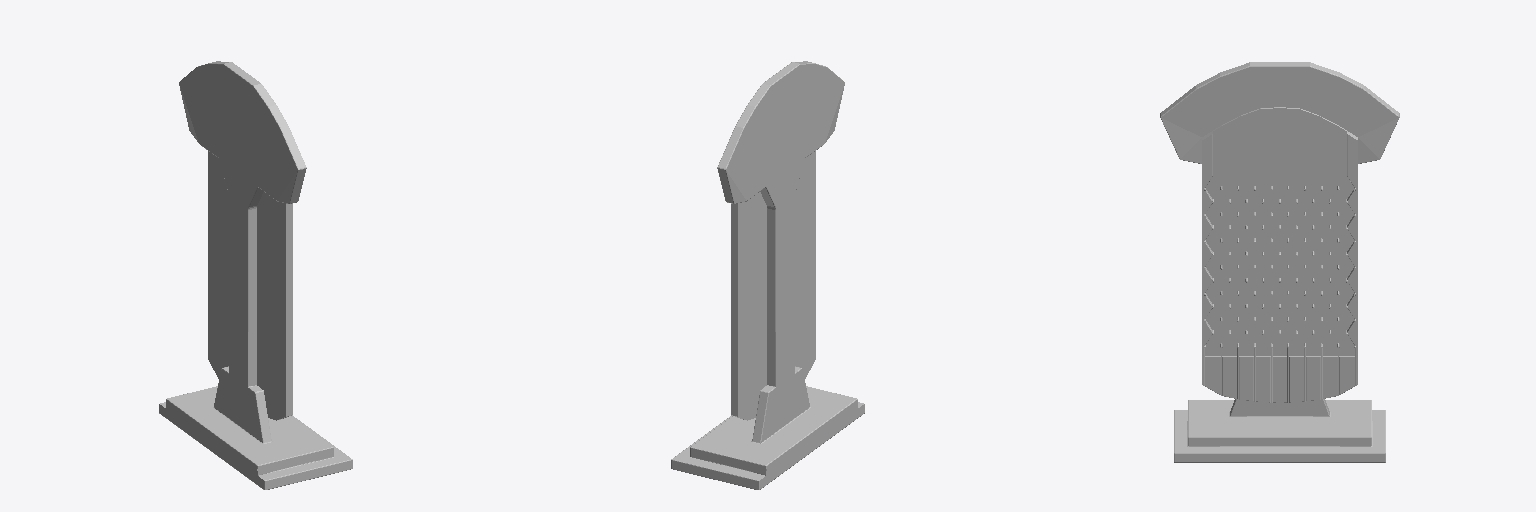
The model's file is plinko.obj.
The picture shows the model from 3 angles: view 1: azimuth 30°, elevation 25°; view 2: azimuth 150°, elevation 25°; view 3: azimuth 270°, elevation 25°; orthographic projection.
Parts seen in each view (by area): view 1: obj1; view 2: obj1; view 3: obj1.
Boxes of the visible parts, <box> form: obj1: <box>159,61,352,489</box>; obj1: <box>671,61,864,489</box>; obj1: <box>1160,62,1399,462</box>.
Bounding box in the file's own units: 1.83 × 7.35 × 4.3.